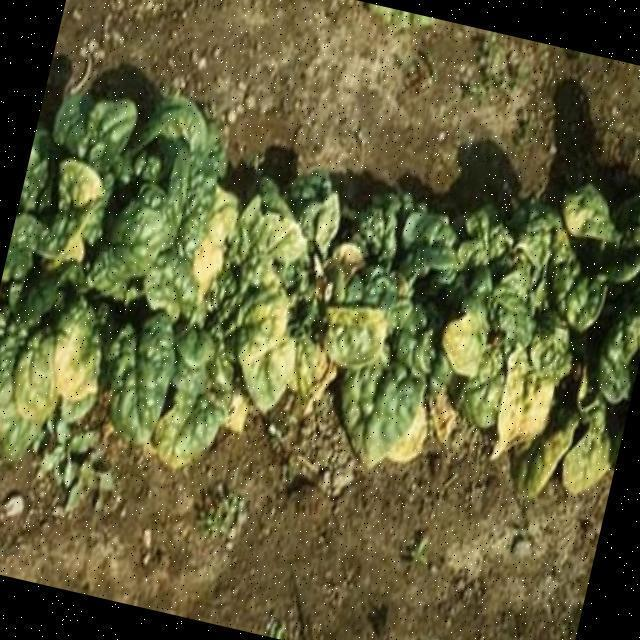Powdery_Mildew: (3, 149, 206, 411), (434, 236, 611, 460), (207, 200, 381, 417)
